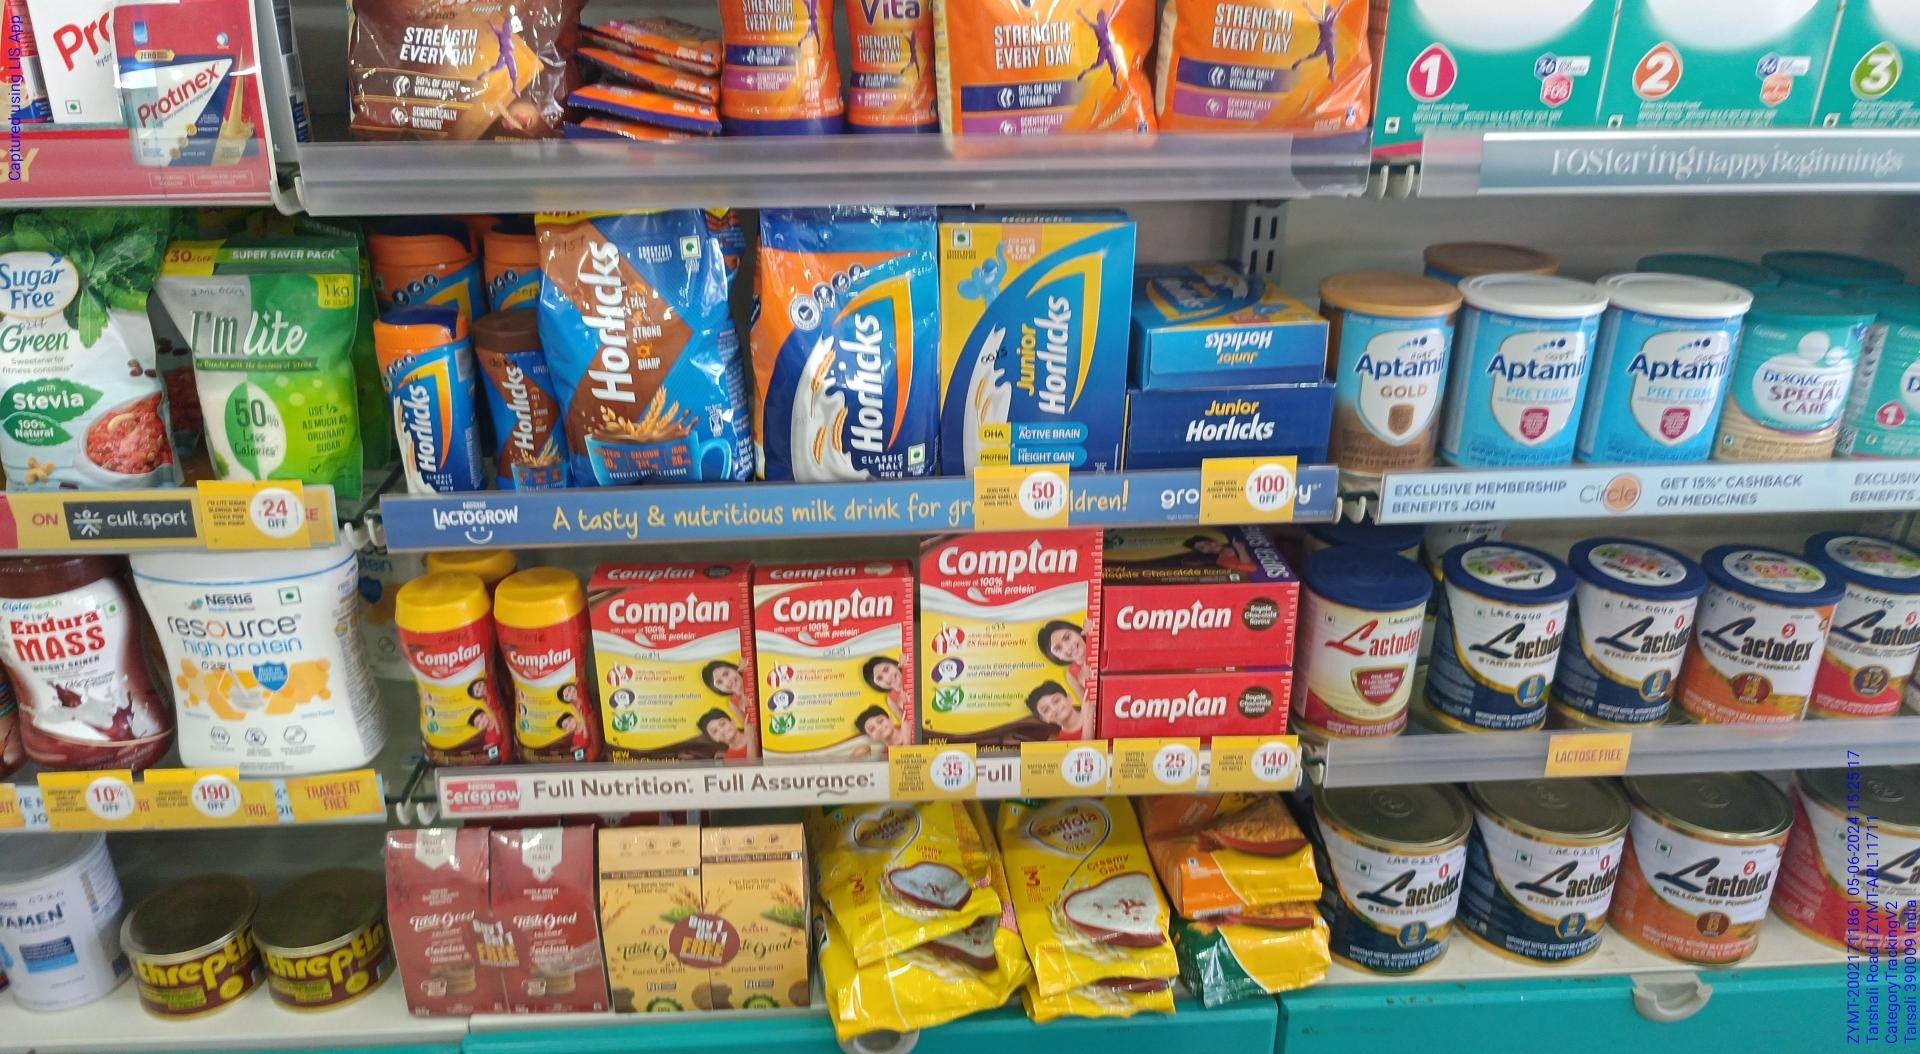COMPLAN_CHOCOLATE_200_GMS_JAR: (402, 580, 493, 781), (498, 593, 588, 771)
COMPLAN_KESAR_BADAM_200_GMS_PACK: (759, 580, 899, 767)
HORLICK_CHOCOLATE_200_G_JAR: (480, 321, 551, 496)
HORLICK_CLASSIC_MALT_200_G_JAR: (376, 310, 467, 501)
